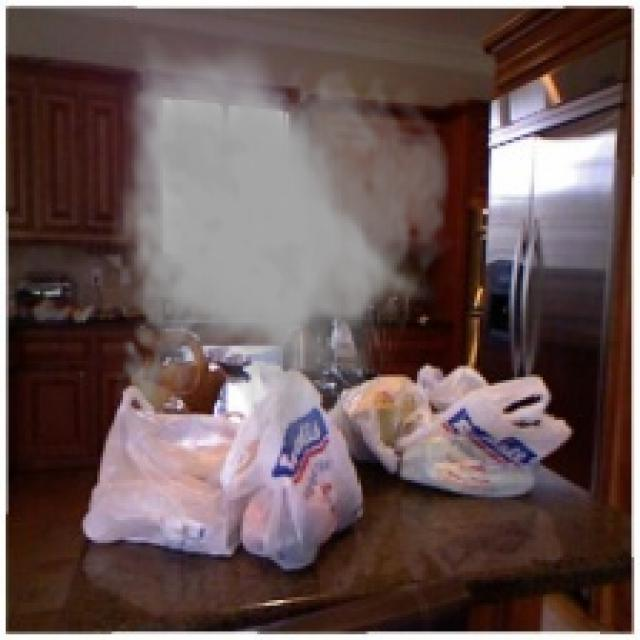smoke: (112, 34, 454, 454)
